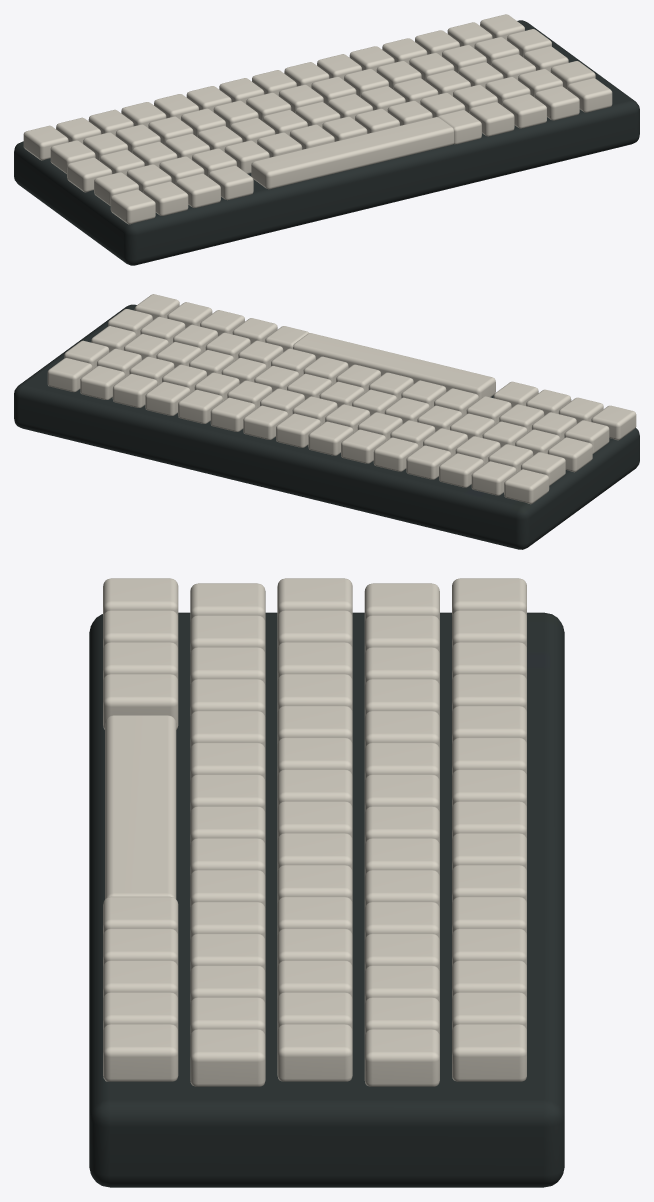
File: keyboard.glb
The picture shows the model from 3 angles, top to bottom: view 1: azimuth 30°, elevation 25°; view 2: azimuth 150°, elevation 25°; view 3: azimuth 270°, elevation 25°; orthographic projection. The views are drawn at different scales.
Parts seen in each view (by area): view 1: Long space key, Keyboard chassis; view 2: Long space key, Keyboard chassis; view 3: Long space key, Keyboard chassis.
Boxes of the visible parts, bbox=[...] form: Long space key: bbox=[23, 14, 612, 224]; Keyboard chassis: bbox=[14, 20, 639, 265]; Long space key: bbox=[47, 294, 636, 504]; Keyboard chassis: bbox=[14, 304, 639, 549]; Long space key: bbox=[103, 578, 526, 1086]; Keyboard chassis: bbox=[89, 612, 564, 1187].
Size of the model in its own units: 0.3 by 0.033 by 0.12.
Materials: 2 (2 with a texture image).
